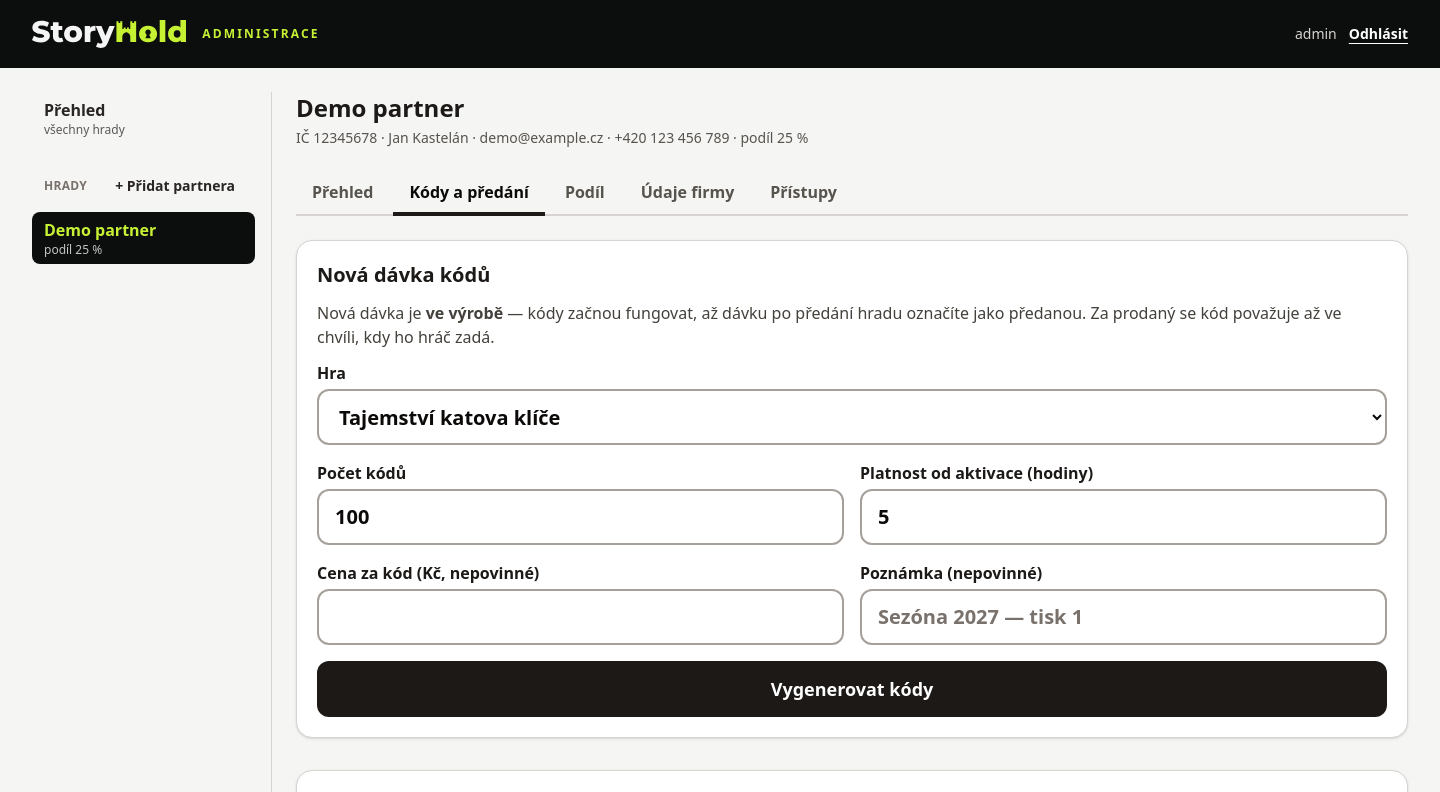
Test: AdminPage — operator › creates a batch for the selected partner game
Replace the text in the number field labelled "Počet kódů" with "250" at (580, 517), box top-left (317, 489), bottom-right (844, 545)
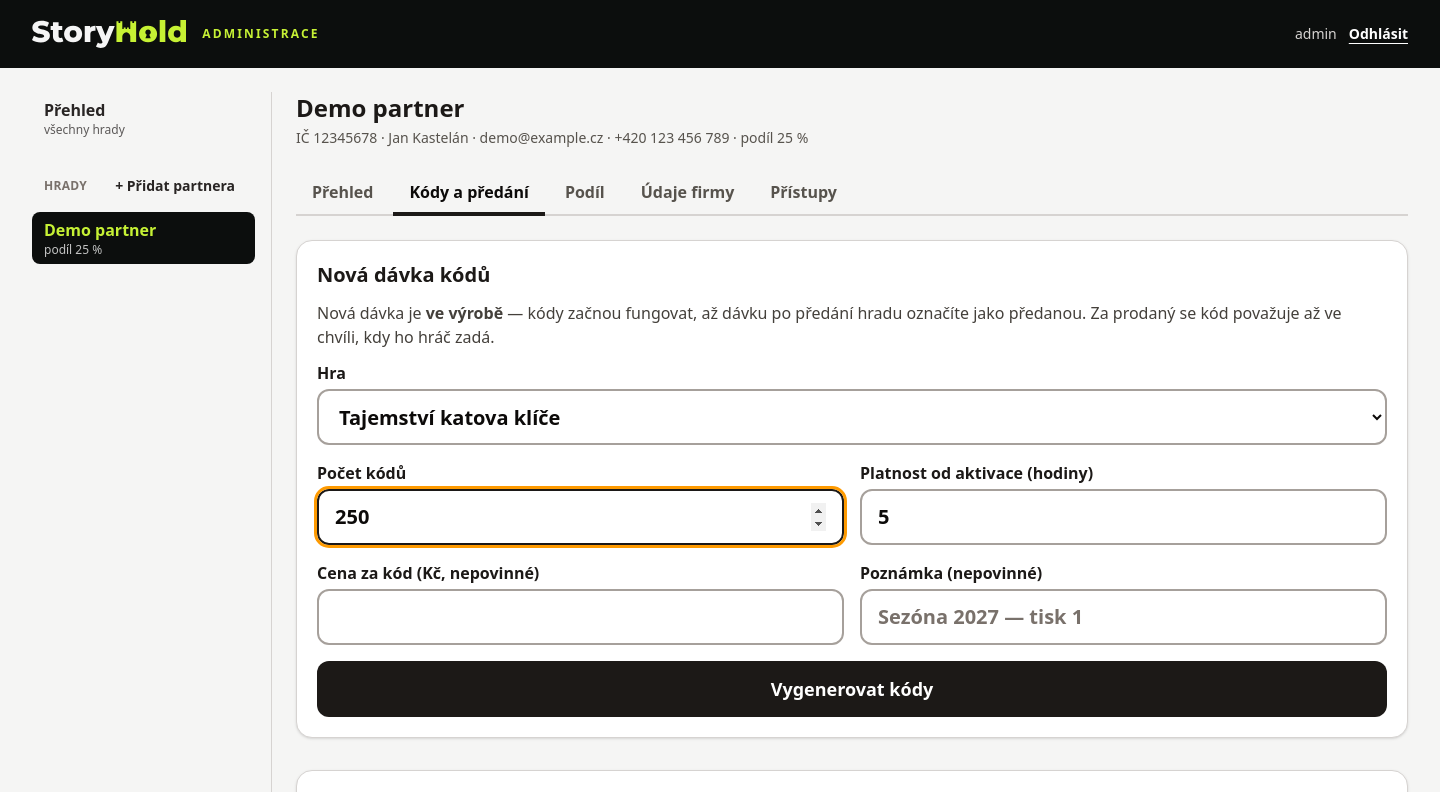
Click the button "Vygenerovat kódy" at (852, 689), box top-left (317, 661), bottom-right (1387, 717)
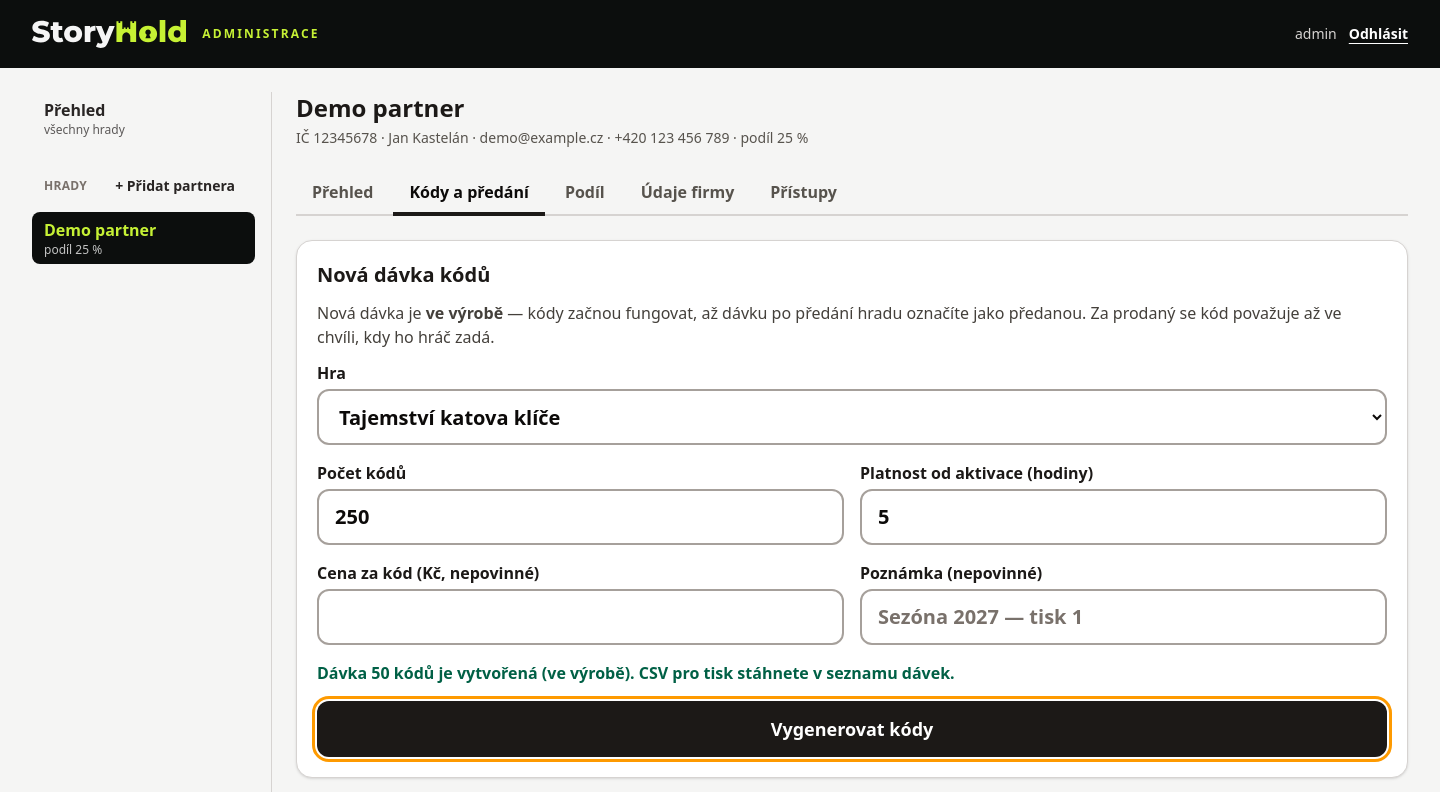
Expected: the text "Dávka 50 kódů je vytvořená (ve výrobě). CSV pro tisk stáhnete v seznamu dávek." is shown, top-left (317, 662), bottom-right (955, 684)
